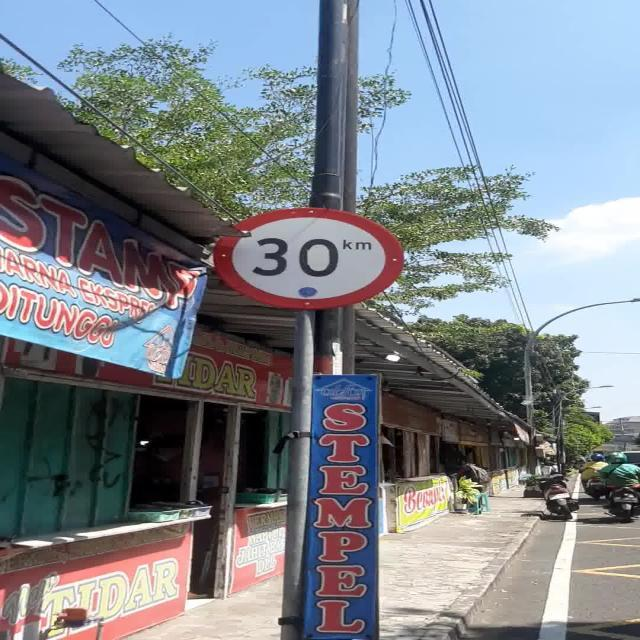Kecepatan Maks. 30 km: (212, 207, 404, 310)
